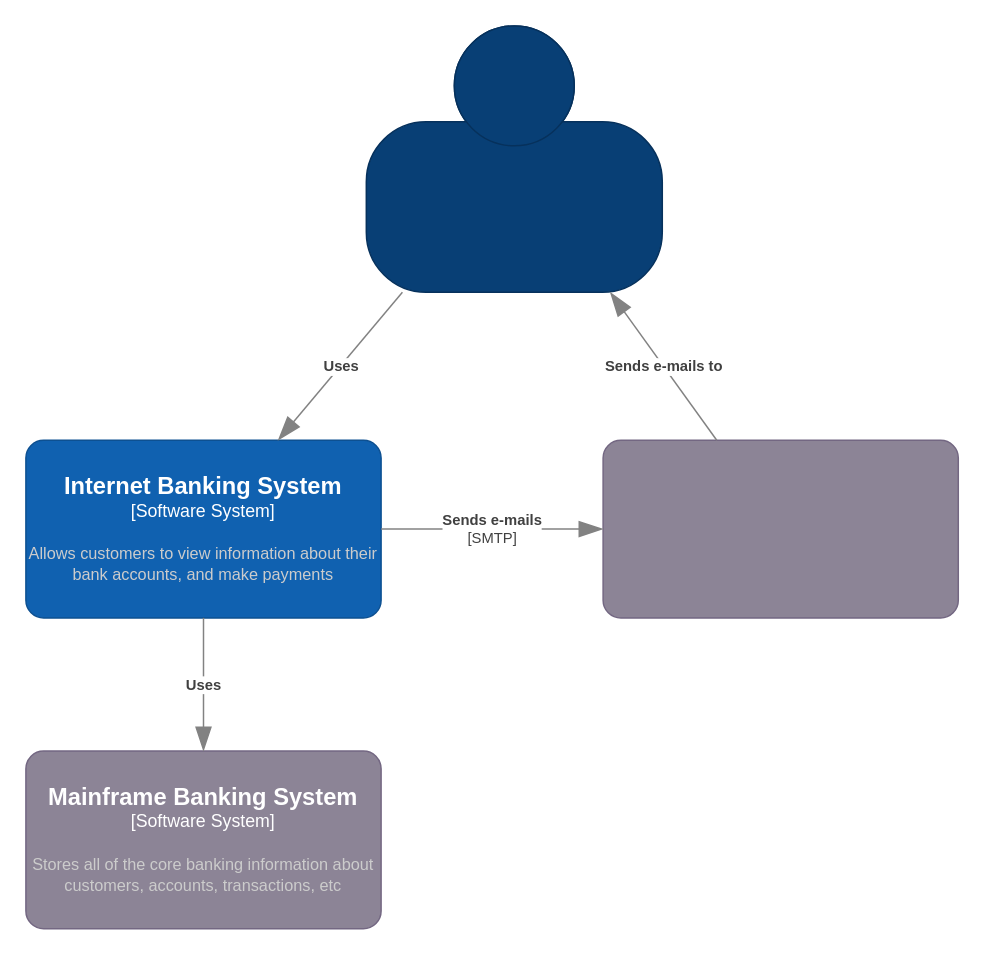
Some shapes in this 984 by 955 pixel diagram are drawn without their labels. Here are the shapes that lost their labels. From the top down, the centre of each, then its label:
(513,158): Customer [Person] A customer of the bank, with personal bank accounts
(780,528): E-mail system [Software System] The internal Microsoft Exchange e-mail system
